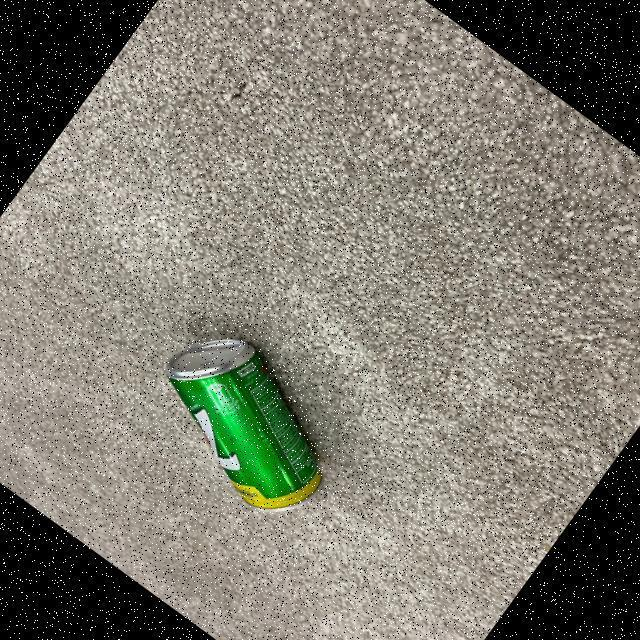Metal: (168, 340, 324, 513)
